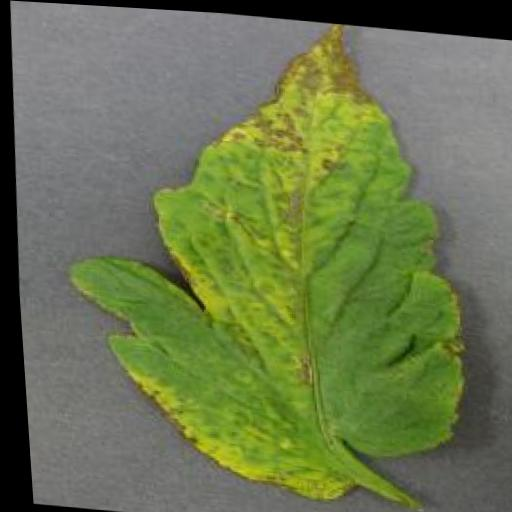Bacterial Spot: (38, 2, 483, 511)
